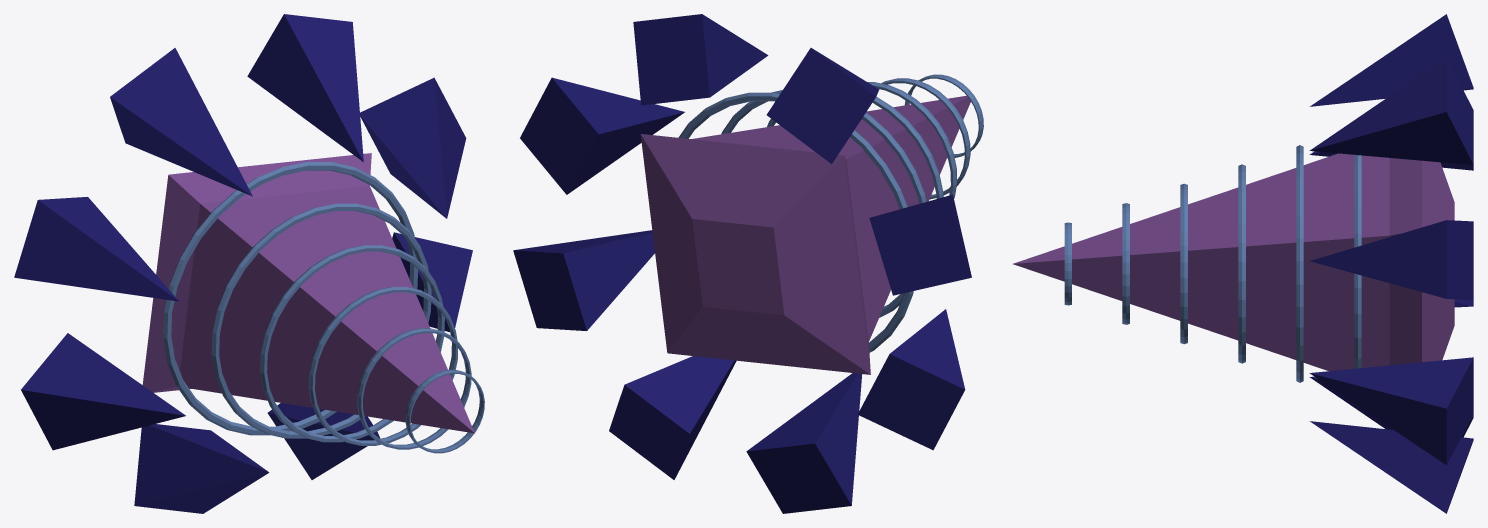
File: Enemy.gltf
3 views of the same model, side by side, from view 1: azimuth 30°, elevation 25°; view 2: azimuth 150°, elevation 25°; view 3: azimuth 270°, elevation 25° (orthographic). The views are drawn at different scales.
Parts seen in each view (by area): view 1: 立方体.001, 立方体, トーラス.004; view 2: 立方体.001, 立方体, トーラス.004; view 3: 立方体, 立方体.001, トーラス.004.
Boxes of the visible parts, box(x1,y1,x2,y2) form: 立方体.001: box(14, 14, 472, 513); 立方体: box(142, 153, 474, 433); トーラス.004: box(163, 162, 484, 453); 立方体.001: box(513, 14, 971, 513); 立方体: box(640, 95, 970, 374); トーラス.004: box(678, 74, 983, 352); 立方体: box(1013, 153, 1454, 370); 立方体.001: box(1309, 14, 1473, 513); トーラス.004: box(1064, 145, 1361, 382).
Bounding box in the file's own units: 2.63 × 2.63 × 2.44.
